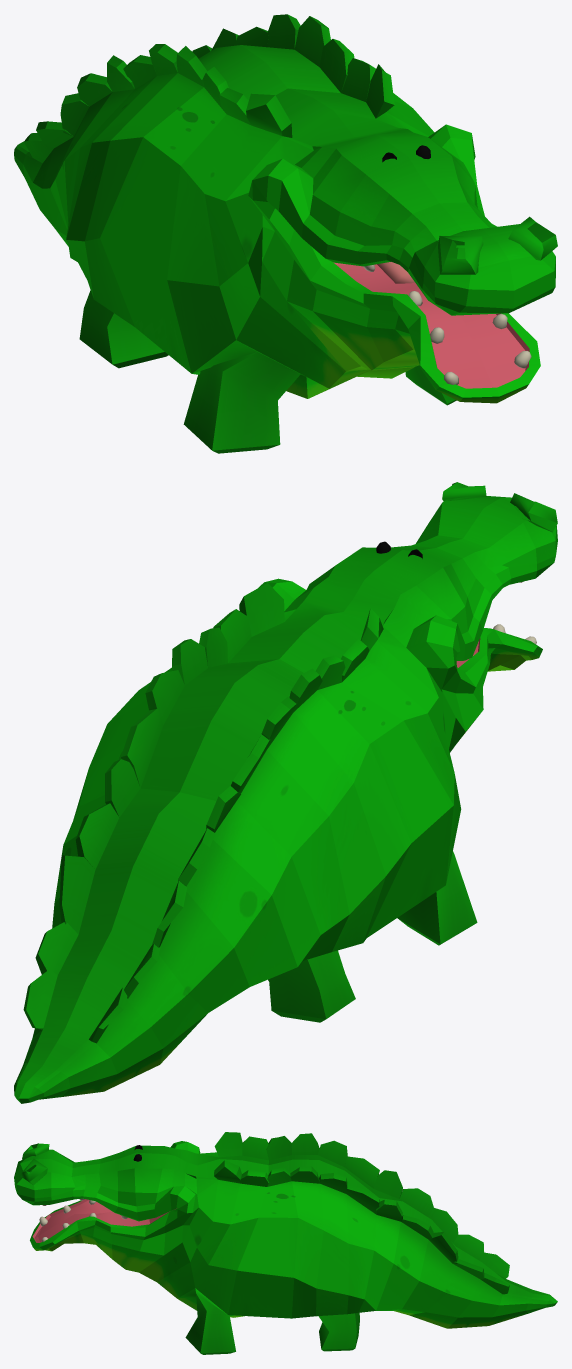
The model's file is Croco_FBX.fbx.
3 views of the same model, one above another, from view 1: azimuth 30°, elevation 25°; view 2: azimuth 150°, elevation 25°; view 3: azimuth 270°, elevation 25° (orthographic). The views are drawn at different scales.
Visible parts, largest first — view 1: Body, Teeth; view 2: Body; view 3: Body.
Part boxes in pixels (x1,y1,x2,y2): Body: (14,14,557,453); Teeth: (363,265,531,384); Body: (14,482,557,1103); Body: (14,1132,557,1354).
Size of the model in its own units: 6.79 by 6.57 by 18.48.
